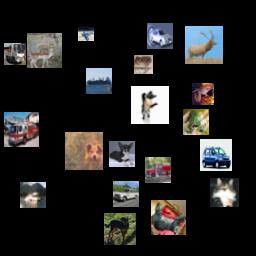airplane: (78, 25, 94, 41)
automobile: (200, 139, 232, 171), (113, 181, 139, 207), (147, 23, 173, 49)
cat: (131, 86, 169, 124), (151, 200, 186, 235), (210, 178, 239, 207)
deer: (185, 26, 223, 64), (27, 33, 62, 68)
dog: (65, 132, 103, 170), (104, 213, 136, 245), (109, 141, 135, 167)
frog: (183, 109, 209, 135), (192, 83, 214, 105), (134, 55, 153, 74)
ship: (86, 68, 112, 94), (20, 182, 46, 208)
truck: (4, 112, 39, 147), (145, 157, 171, 183), (4, 43, 26, 65)
